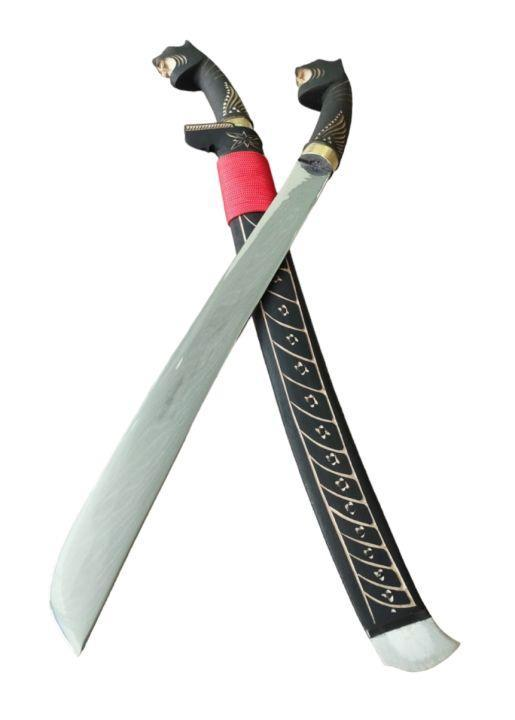espada: (50, 60, 351, 652)
